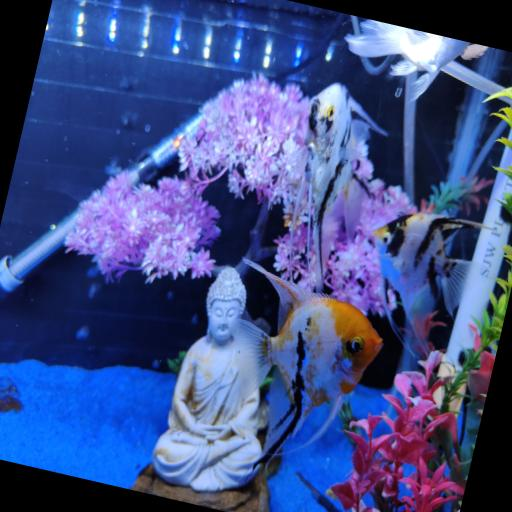Fish: (233, 259, 382, 463), (291, 84, 387, 292), (374, 213, 483, 351), (346, 19, 488, 101)
